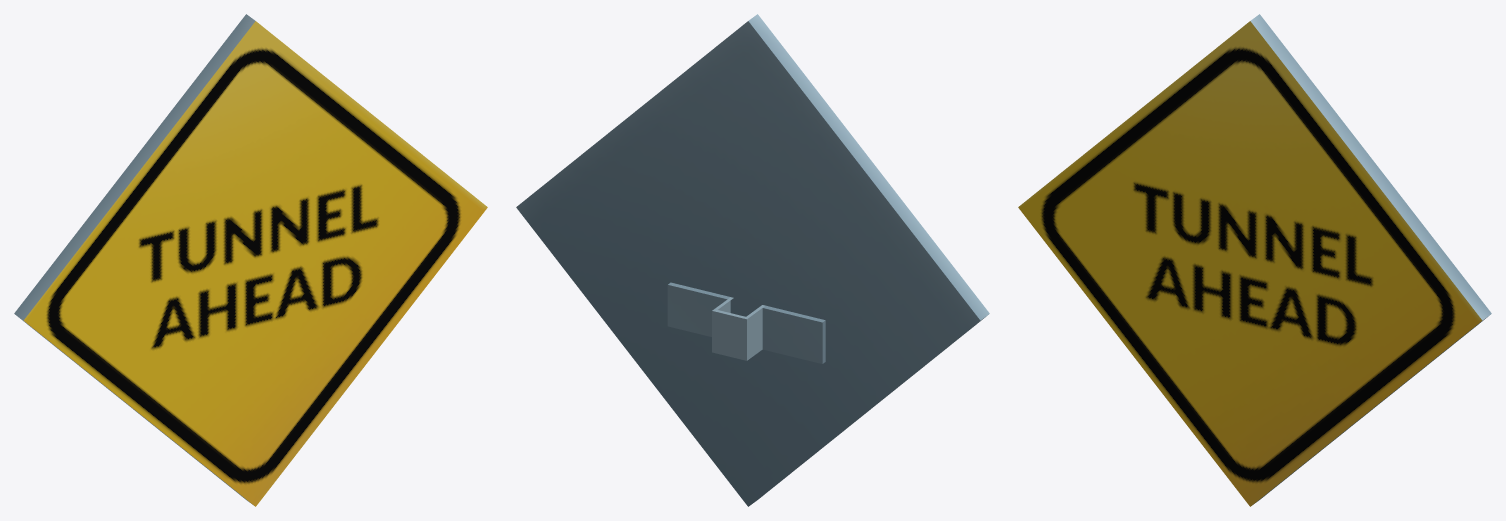
The model's file is Sign41.fbx.
3 renders of one model, left to right at view 1: azimuth 30°, elevation 25°; view 2: azimuth 150°, elevation 25°; view 3: azimuth 330°, elevation 25°, orthographic.
Visible parts, largest first — view 1: Sign41; view 2: Sign41; view 3: Sign41.
Boxes of the visible parts, x1,y1,x2,y2 form: Sign41: [14, 14, 487, 506]; Sign41: [516, 14, 989, 506]; Sign41: [1018, 14, 1491, 506].
Bounding box in the file's own units: 1.41 × 0.1489 × 1.41.
